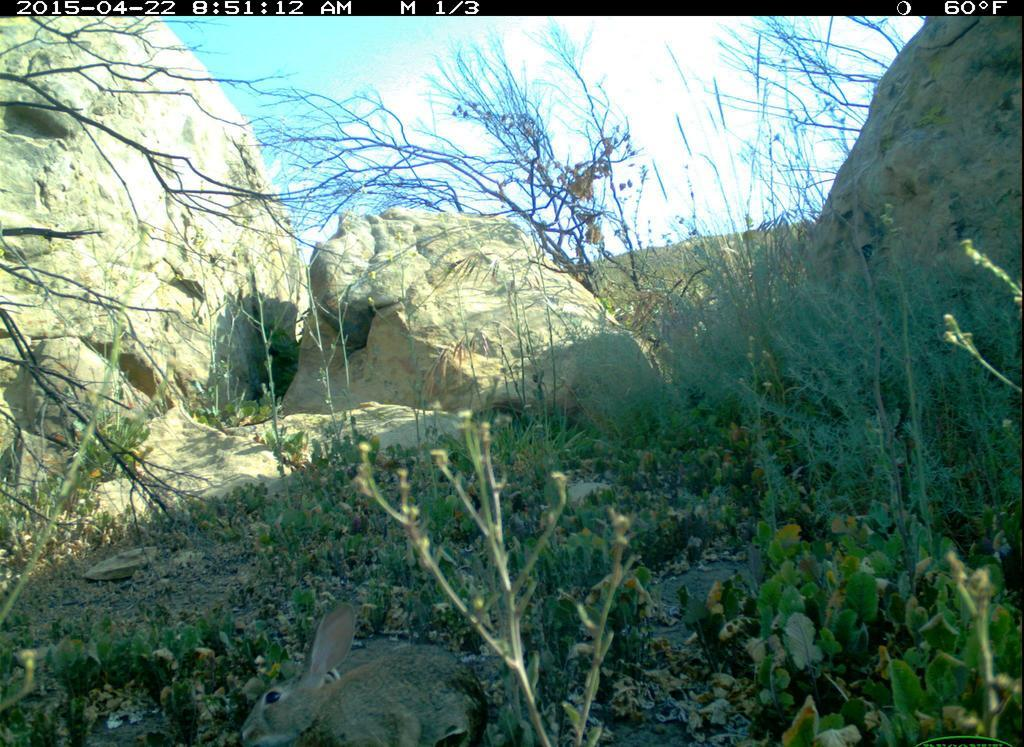rabbit: (200, 589, 498, 747)
